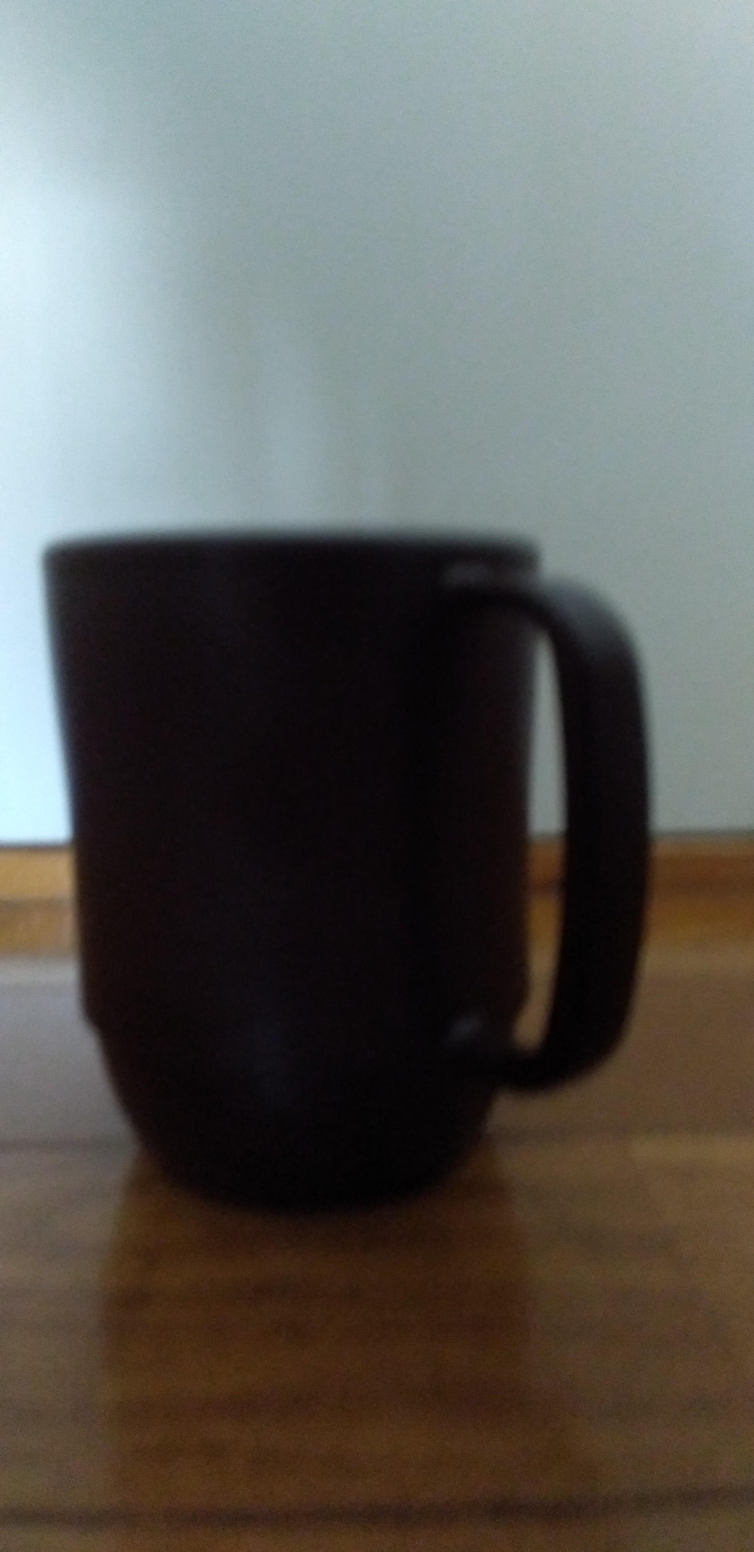mug-real100-3d100: (44, 534, 648, 1210)
